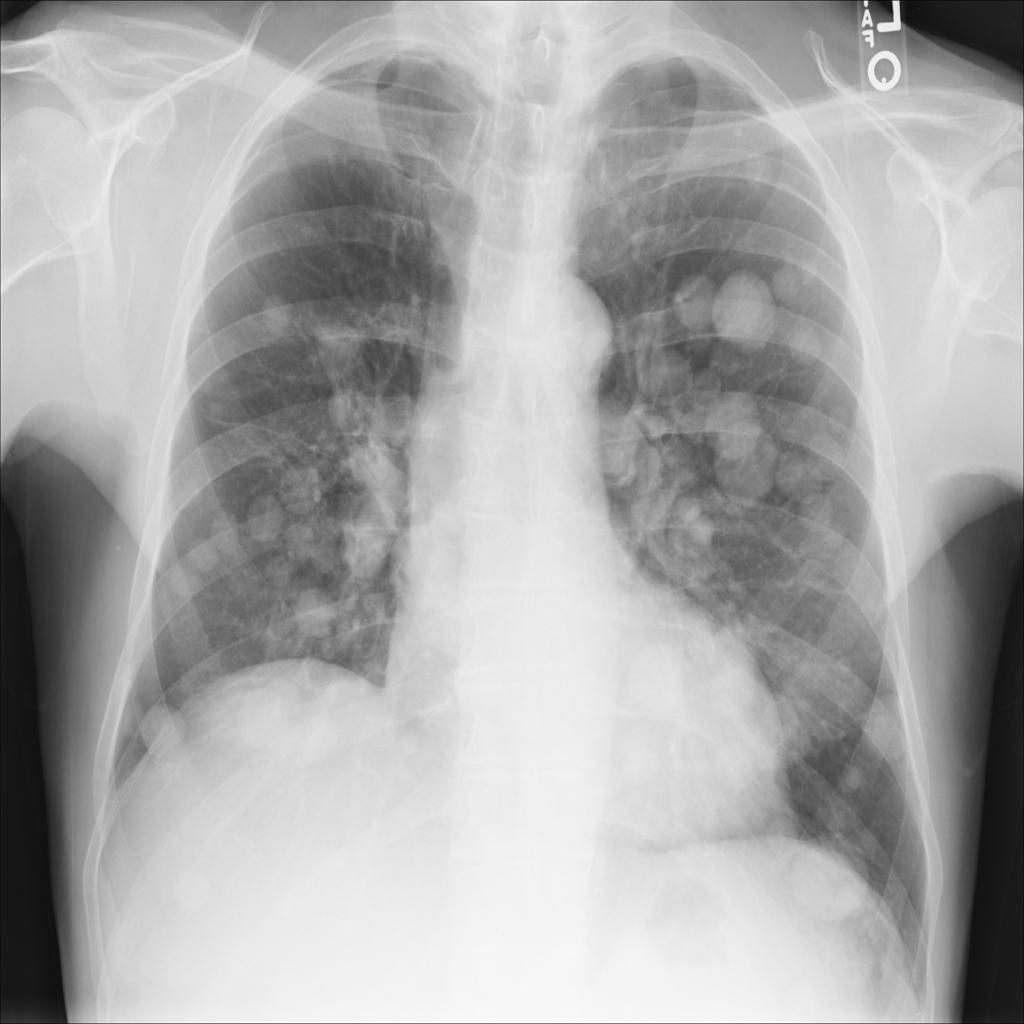nodule: (669, 633, 788, 803), (773, 827, 885, 933), (618, 633, 689, 721), (230, 678, 307, 757), (715, 263, 784, 349), (697, 389, 767, 472), (323, 502, 392, 585), (134, 690, 206, 769), (675, 263, 745, 343), (304, 307, 374, 387), (710, 426, 781, 504), (278, 697, 350, 768), (611, 717, 673, 797), (773, 436, 842, 507), (244, 276, 306, 354), (789, 487, 858, 557), (630, 341, 700, 408), (279, 573, 346, 643), (747, 807, 810, 879), (276, 455, 328, 514), (771, 252, 824, 307), (785, 312, 833, 370), (239, 491, 288, 547), (667, 271, 714, 328), (178, 528, 229, 580), (157, 557, 205, 612), (738, 140, 783, 198), (192, 378, 242, 430), (830, 746, 878, 800), (254, 532, 300, 588), (281, 203, 332, 253), (209, 504, 258, 556), (285, 521, 331, 576), (812, 399, 859, 452)
